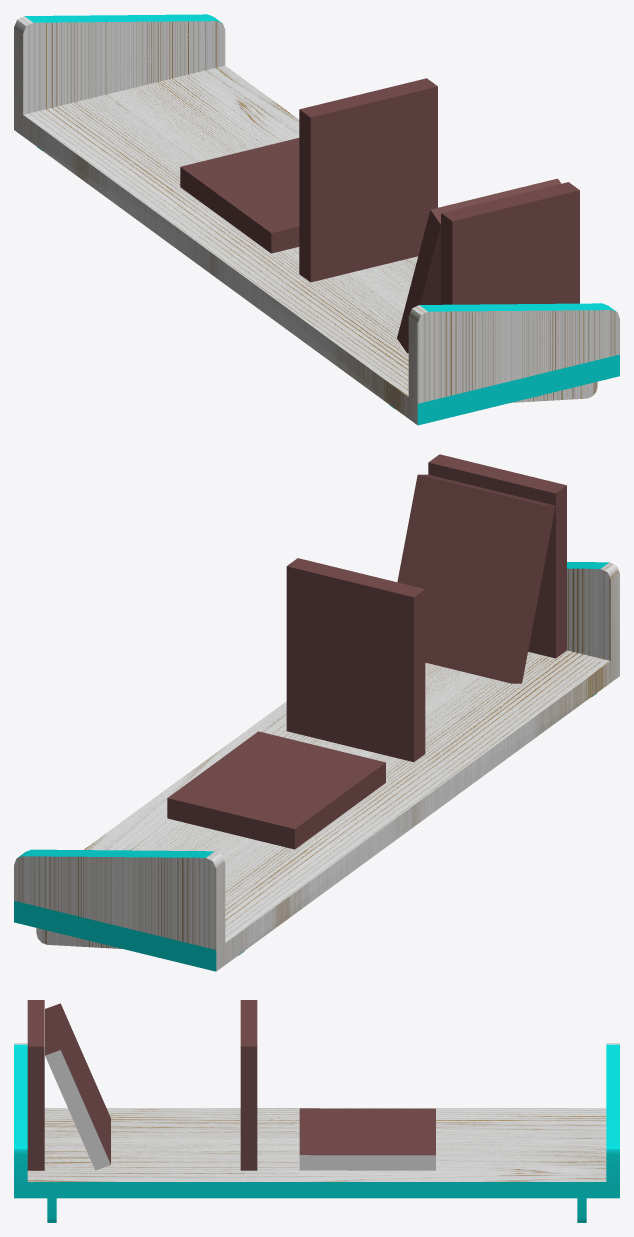
The model's file is Obj_vid_22_llibreria_low_poly.fbx.
3 renders of one model, top to bottom at view 1: azimuth 30°, elevation 25°; view 2: azimuth 150°, elevation 25°; view 3: azimuth 270°, elevation 25°, orthographic. The views are drawn at different scales.
Parts seen in each view (by area): view 1: Obj_vid_22_llibreria_low_poly; view 2: Obj_vid_22_llibreria_low_poly; view 3: Obj_vid_22_llibreria_low_poly.
Part boxes in pixels (x1,y1,x2,y2): Obj_vid_22_llibreria_low_poly: (14, 14, 619, 425); Obj_vid_22_llibreria_low_poly: (14, 454, 619, 971); Obj_vid_22_llibreria_low_poly: (14, 1000, 619, 1222).
Bounding box in the file's own units: 0.4183 × 0.4409 × 1.45.
